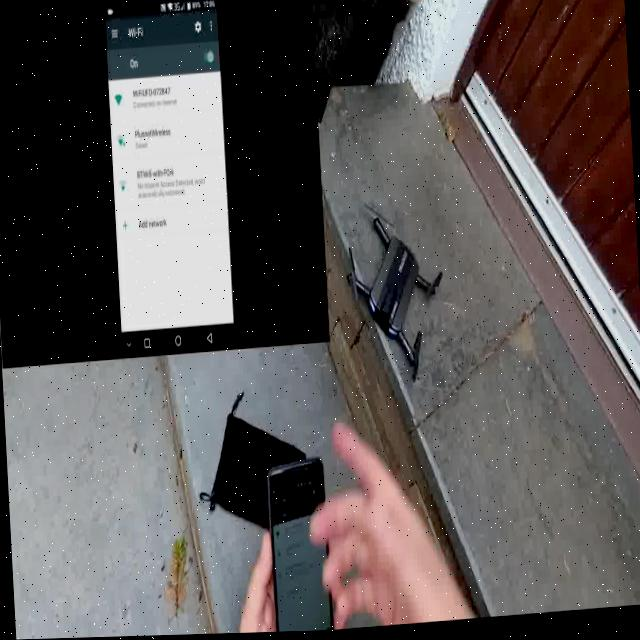drone: (328, 186, 461, 398)
